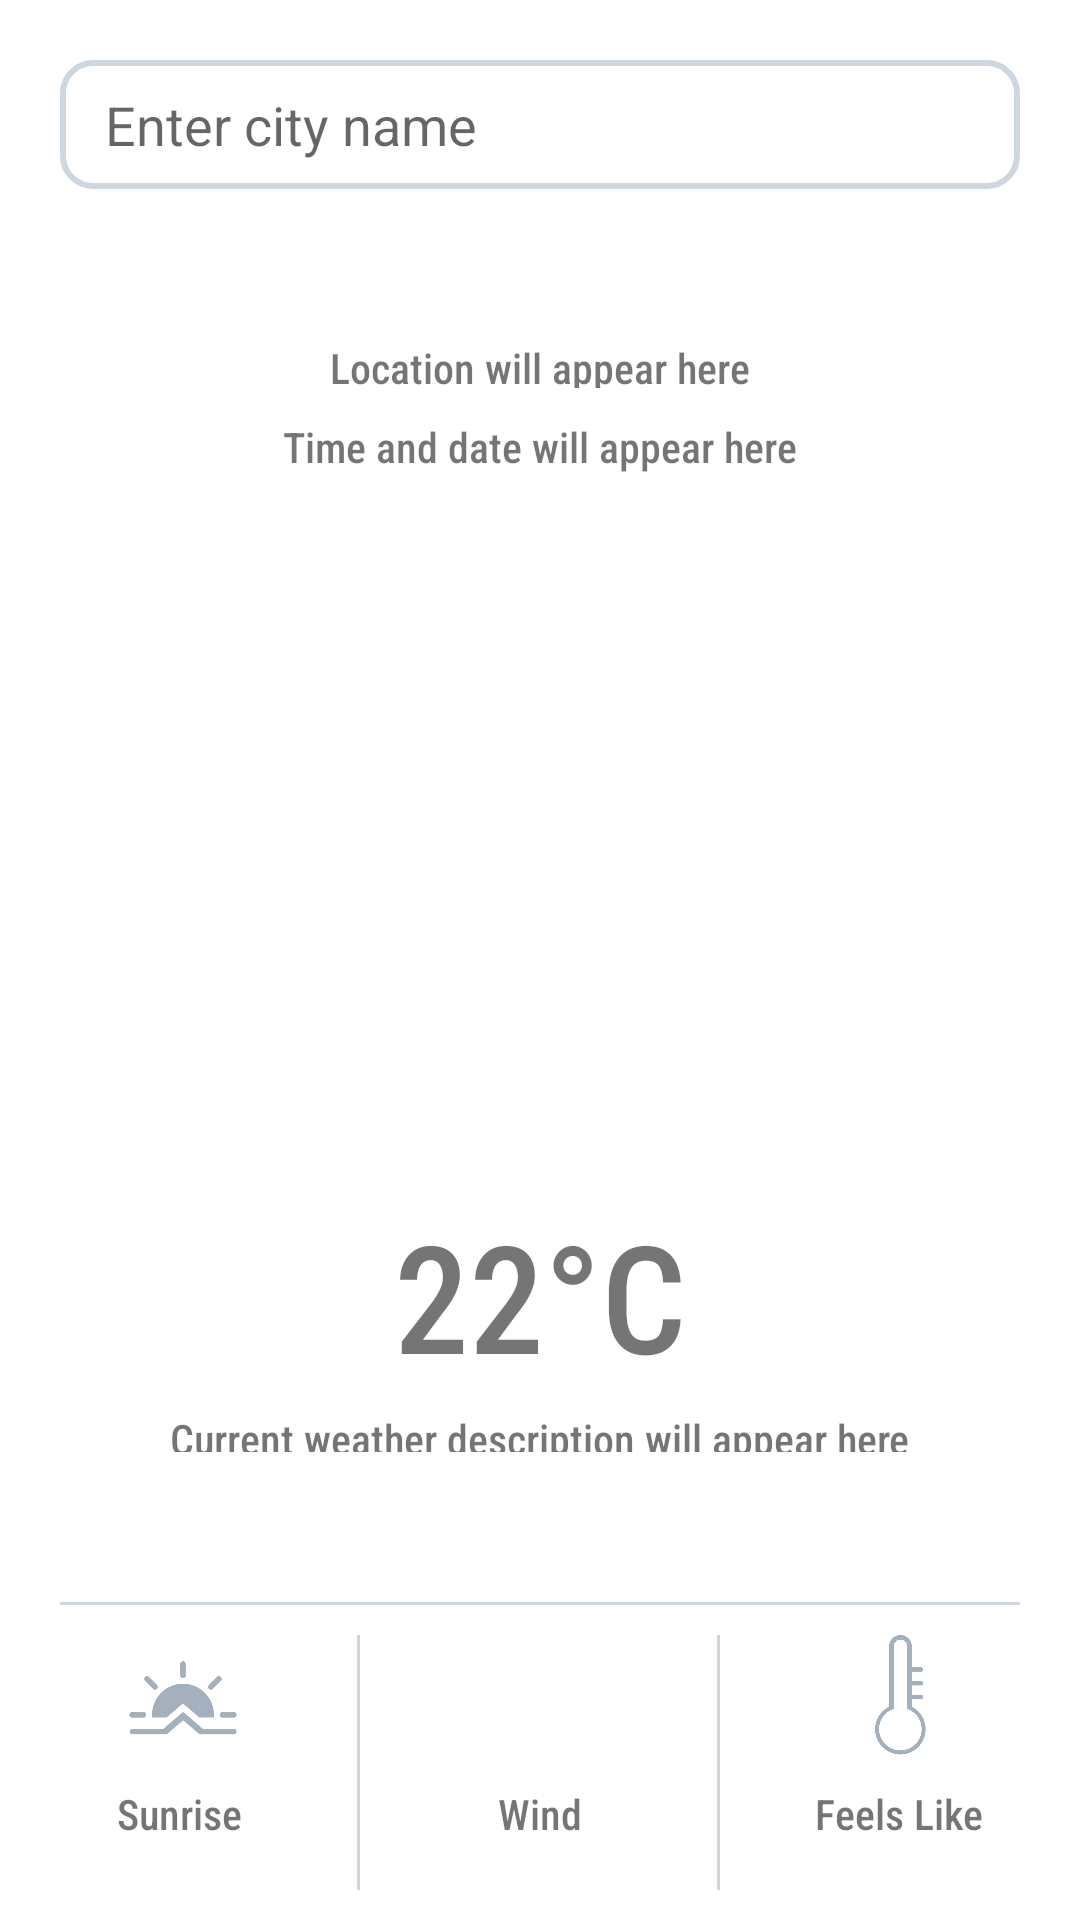

Where to tap for icons on this 1080*1920 app screen, as point (x, y):
temperature: point (900, 1695)
